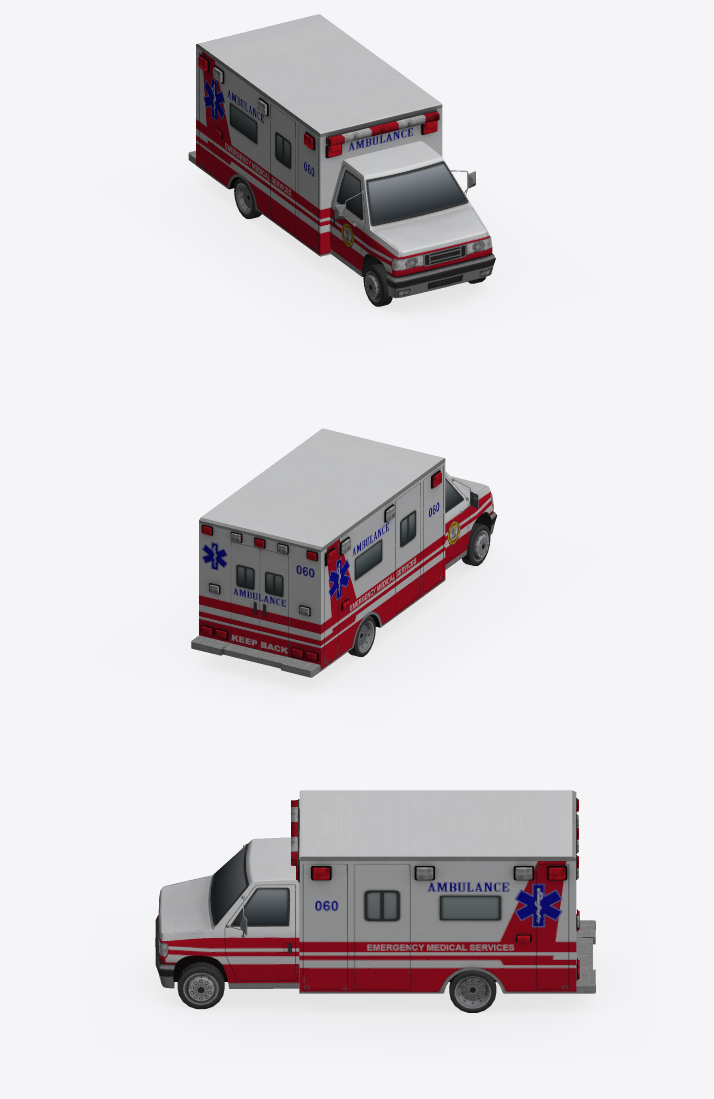
The model's file is ambulance.glb.
3 renders of one model, top to bottom at view 1: azimuth 30°, elevation 25°; view 2: azimuth 150°, elevation 25°; view 3: azimuth 270°, elevation 25°, orthographic. The views are drawn at different scales.
Parts seen in each view (by area): view 1: amulans_Material #84_0, shd; view 2: amulans_Material #84_0, shd, Object002_Material #84_0, Object006_Material #84_0; view 3: amulans_Material #84_0, shd.
Part boxes in pixels (<box>): amulans_Material #84_0: <box>188,14,495,306</box>; shd: <box>166,167,516,322</box>; amulans_Material #84_0: <box>191,428,497,677</box>; shd: <box>165,537,517,698</box>; Object002_Material #84_0: <box>231,541,259,649</box>; Object006_Material #84_0: <box>260,548,288,656</box>; amulans_Material #84_0: <box>155,790,595,1012</box>; shd: <box>122,947,629,1049</box>.
Size of the model in its own units: 7.43 by 2.66 by 10.49.
Materials: 3 (2 with a texture image).
